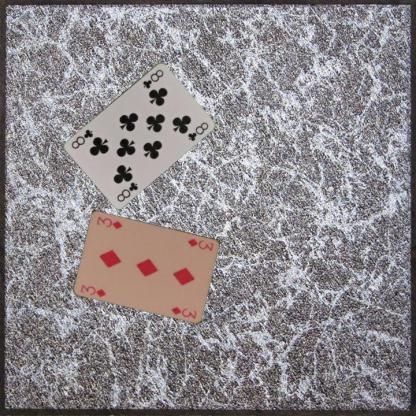3d: (78, 282, 107, 298), (186, 236, 214, 252)
8c: (140, 66, 164, 90), (115, 180, 140, 202)
